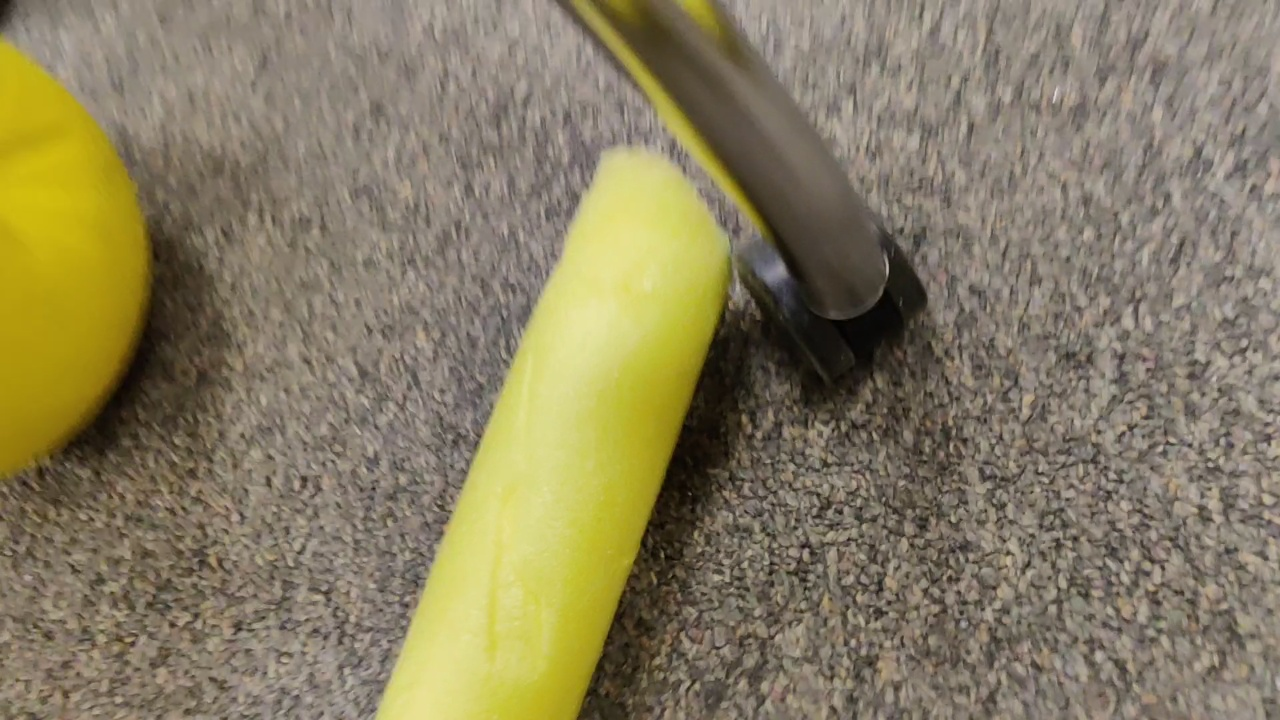Ball: (8, 36, 151, 486)
